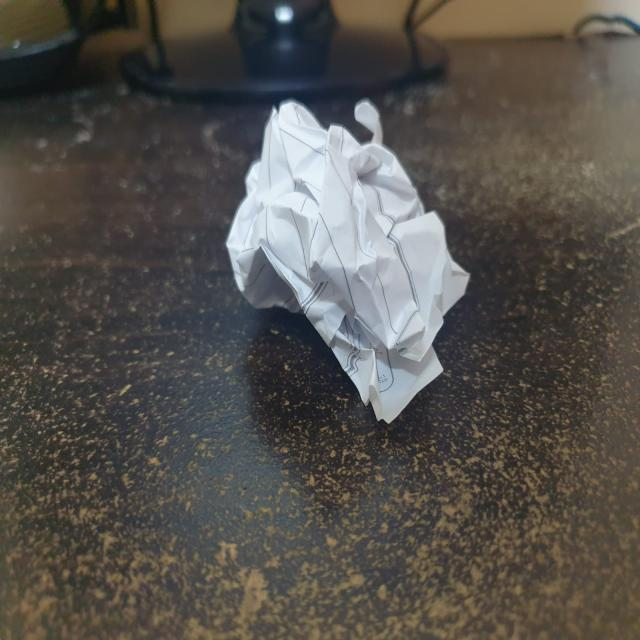Paper: (227, 98, 475, 425)
